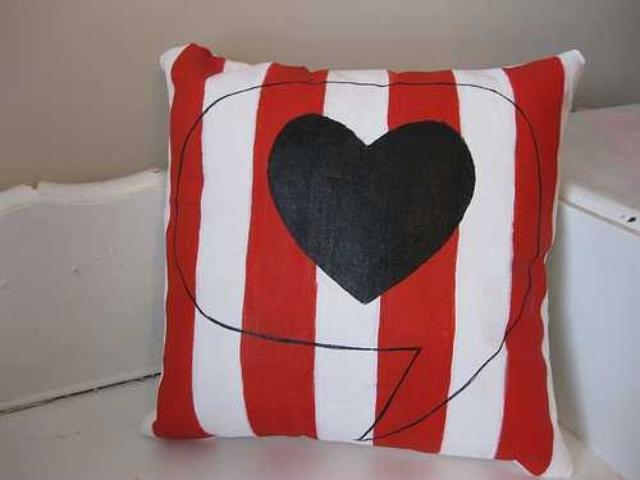pillow: (148, 41, 586, 477)
